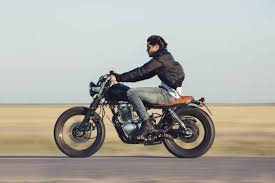motorcycle: (52, 74, 218, 158)
